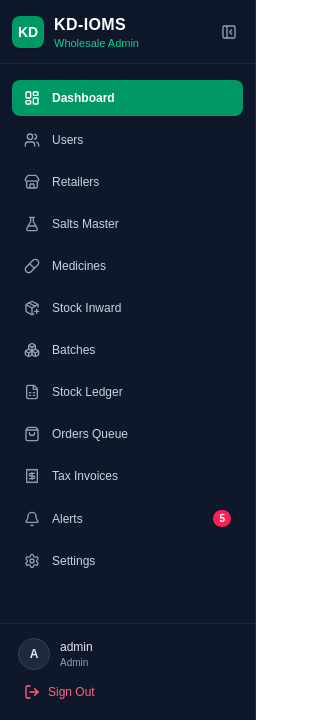
Test: Sidebar Component › collapses sidebar when collapse button is clicked and stores preference in localStorage
Click the button named "collapse sidebar": {"x": 229, "y": 32} [215,18,243,46]
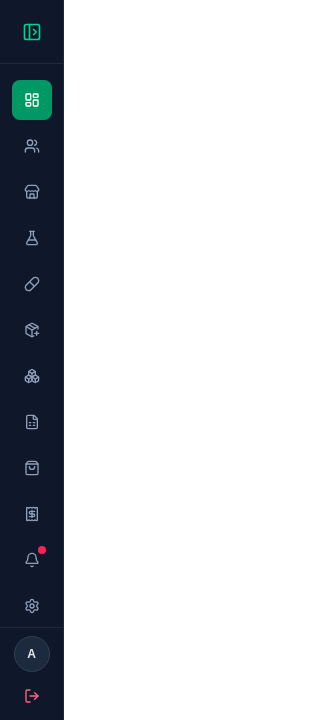
Result: the button named "expand sidebar" is shown at [16,16,48,48]
Result: the text "Wholesale Admin" is gone
